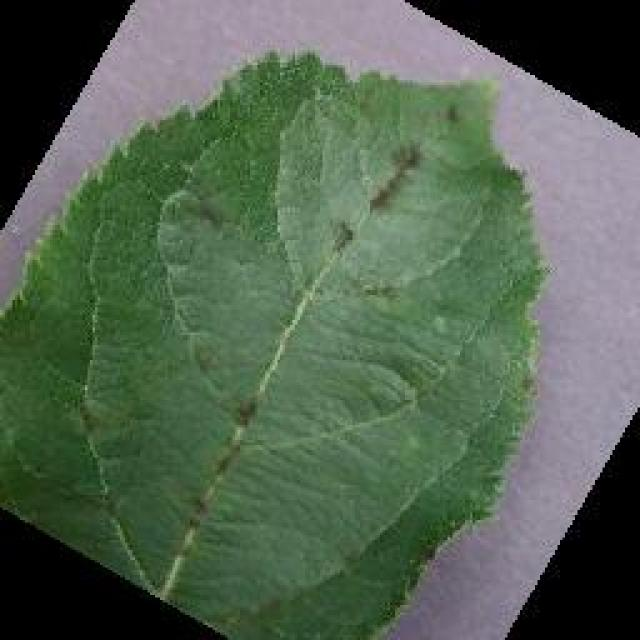apple scab disease: (0, 45, 550, 637)
